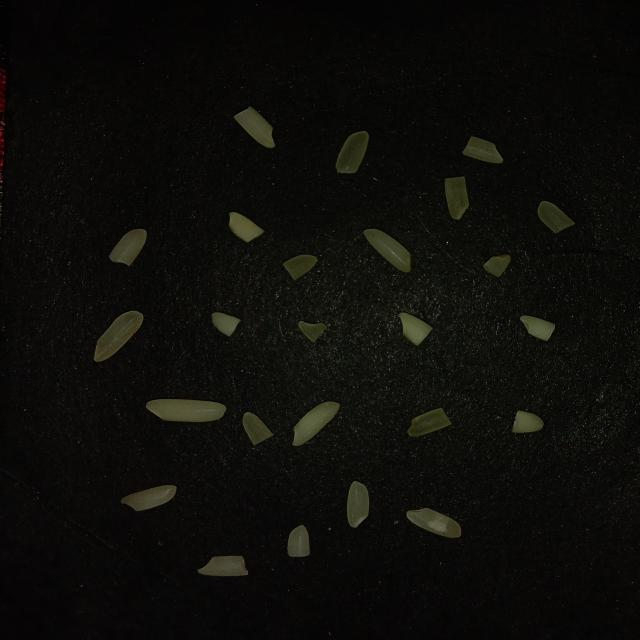Broken: (234, 106, 276, 148), (335, 131, 369, 174), (109, 229, 147, 266), (407, 407, 452, 437), (537, 201, 576, 234), (462, 135, 504, 164), (399, 312, 433, 347), (444, 176, 470, 220), (197, 555, 249, 577), (229, 212, 265, 243), (242, 412, 274, 446), (520, 315, 556, 341), (282, 254, 317, 280), (211, 312, 241, 337), (512, 410, 544, 433), (288, 526, 310, 558), (298, 320, 327, 342), (483, 255, 511, 277)
Full: (94, 310, 144, 362), (364, 228, 412, 273), (292, 401, 340, 446), (145, 399, 226, 422), (406, 508, 462, 538), (121, 485, 177, 512), (348, 481, 370, 528)
